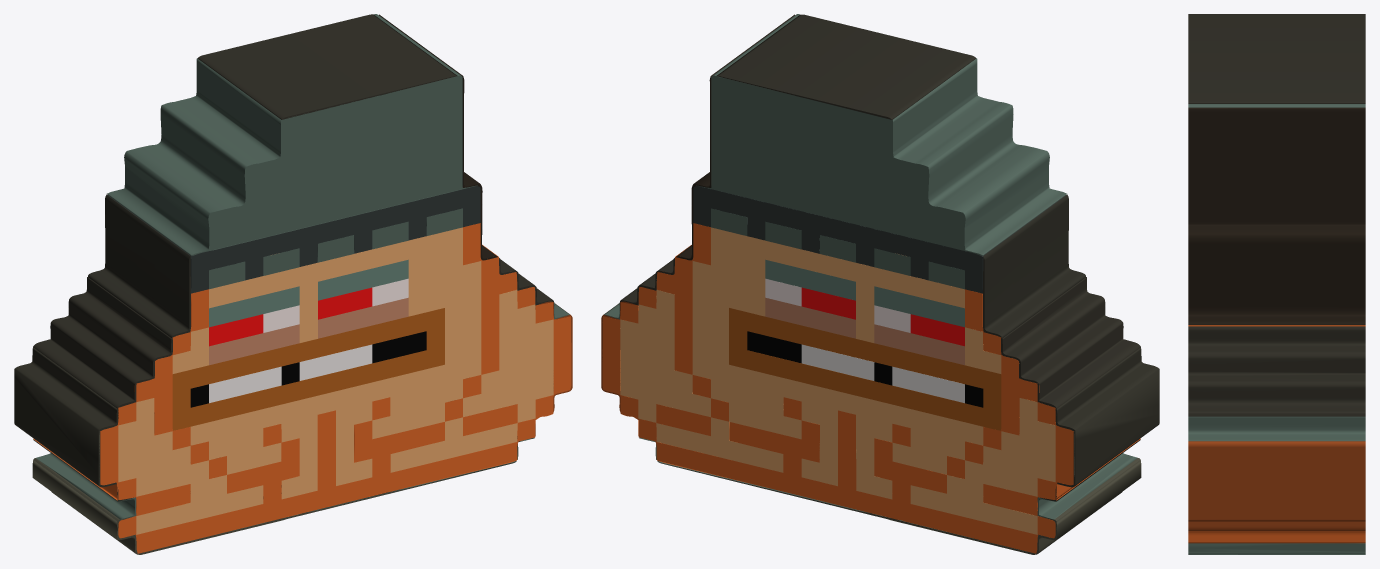
The model's file is Toadz_5521.glb.
The picture shows the model from 3 angles, left to right: view 1: azimuth 30°, elevation 25°; view 2: azimuth 150°, elevation 25°; view 3: azimuth 270°, elevation 25°; orthographic projection. The views are drawn at different scales.
Visible parts, largest first — view 1: Curve; view 2: Curve; view 3: Curve.
Boxes of the visible parts, bbox=[...] form: Curve: bbox=[14, 14, 572, 554]; Curve: bbox=[601, 14, 1159, 554]; Curve: bbox=[1188, 14, 1365, 554].
Bounding box in the file's own units: 3.25 × 2.64 × 1.
